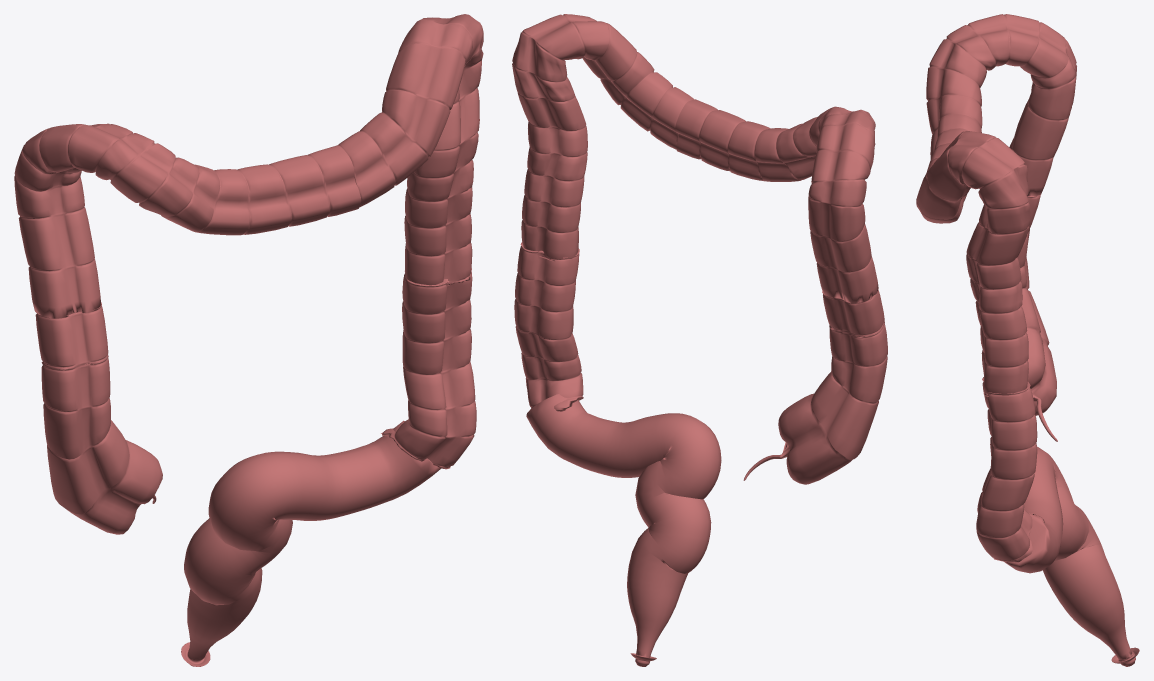
Rendered from intestinoGrueso.fbx.
3 views of the same model, side by side, from view 1: azimuth 30°, elevation 25°; view 2: azimuth 150°, elevation 25°; view 3: azimuth 270°, elevation 25° (orthographic). The views are drawn at different scales.
Visible parts, largest first — view 1: intestinoGrueso; view 2: intestinoGrueso; view 3: intestinoGrueso.
Boxes of the visible parts, <box> form: intestinoGrueso: <box>14,14,483,666</box>; intestinoGrueso: <box>512,14,887,666</box>; intestinoGrueso: <box>916,14,1139,666</box>.
Size of the model in its own units: 5.38 by 7.87 by 2.67.
